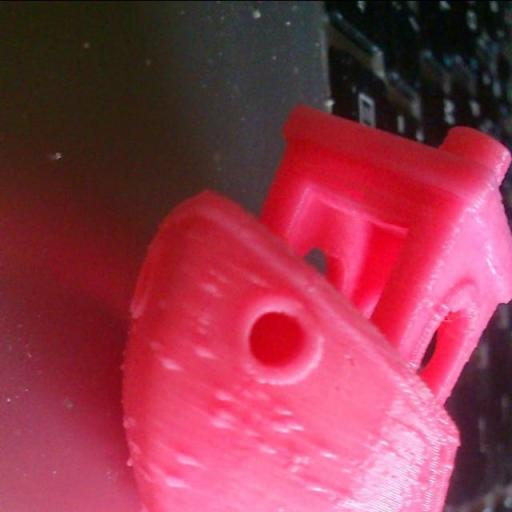blobs: (208, 377, 238, 407), (208, 407, 237, 437), (284, 446, 306, 477), (314, 438, 338, 465), (274, 416, 300, 440), (176, 446, 202, 469), (271, 398, 294, 420), (192, 341, 214, 363), (156, 351, 178, 373), (304, 476, 324, 500), (162, 470, 181, 494), (254, 440, 274, 462), (200, 278, 222, 296)
